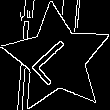L_NE: (28, 31, 85, 87)
